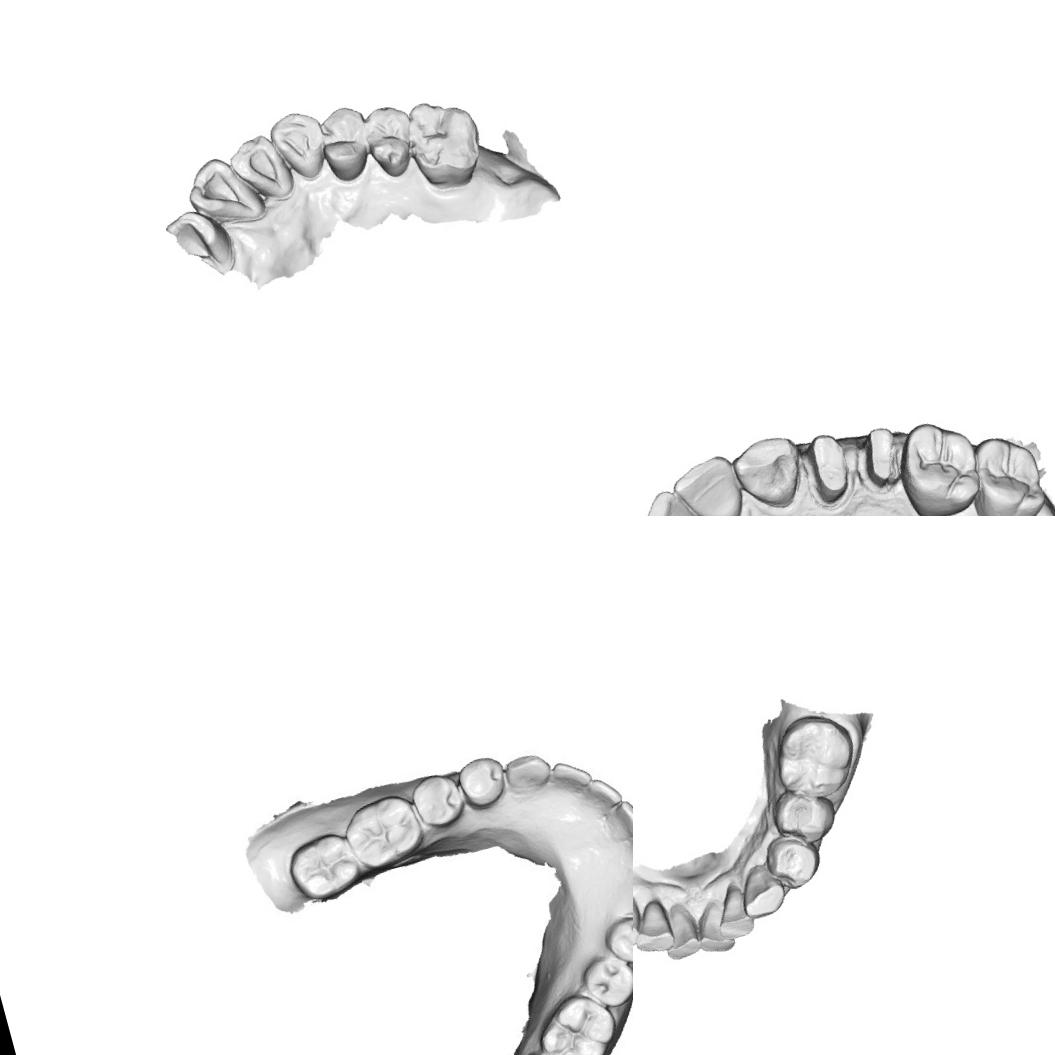canine: (724, 427, 811, 516), (262, 105, 333, 188), (732, 857, 790, 921), (499, 747, 556, 799), (633, 889, 649, 956), (623, 867, 633, 916)
crown: (798, 424, 858, 509), (852, 420, 908, 493)
incisor: (178, 146, 269, 238), (224, 128, 300, 214), (666, 450, 750, 516), (688, 893, 740, 958), (654, 897, 706, 962), (707, 877, 758, 942), (633, 480, 716, 516), (633, 896, 677, 959), (543, 752, 592, 800), (592, 798, 633, 847), (584, 772, 624, 820), (611, 830, 633, 879)
molar: (887, 409, 992, 516), (396, 88, 493, 200), (764, 705, 864, 806), (955, 424, 1054, 516), (342, 788, 428, 874), (531, 990, 616, 1055), (290, 830, 361, 898)
premolar: (310, 100, 377, 188), (356, 98, 424, 184), (766, 779, 842, 852), (759, 826, 827, 894), (452, 746, 518, 814), (578, 949, 633, 1015), (409, 773, 467, 833), (601, 908, 633, 965)
